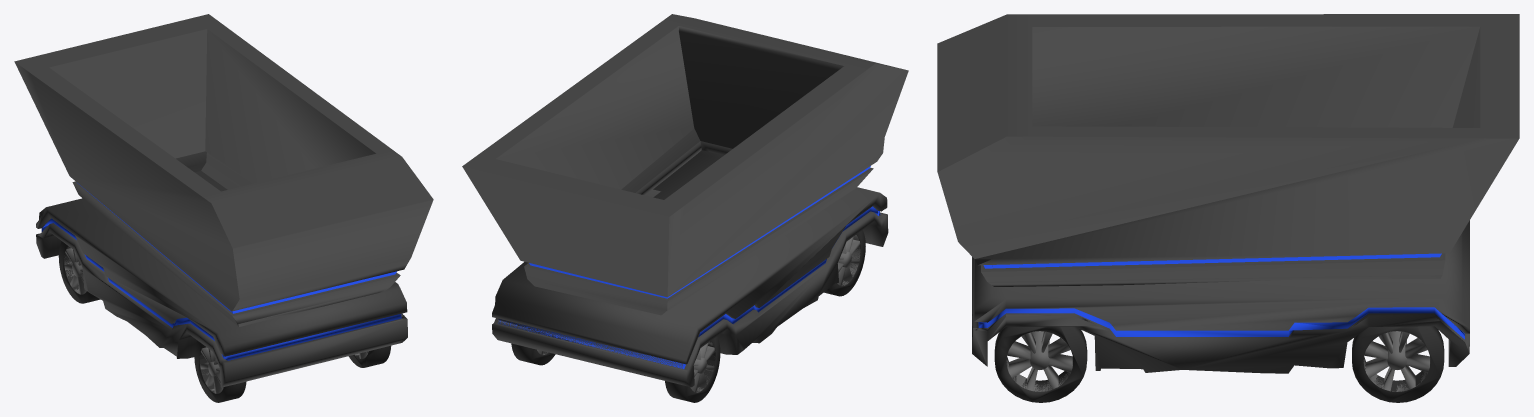
Rendered from torokko_perfect3.fbx.
The picture shows the model from 3 angles, left to right: view 1: azimuth 30°, elevation 25°; view 2: azimuth 150°, elevation 25°; view 3: azimuth 270°, elevation 25°; orthographic projection. The views are drawn at different scales.
Visible parts, largest first — view 1: torokko, base, tire right_front, tire right_rear, tire left_front, wheel right_rear, wheel right_front; view 2: torokko, base, tire right_rear, wheel right_front, tire right_front, tire left_rear, wheel right_rear; view 3: torokko, base, tire left_front, tire left_rear, wheel left_front, wheel left_rear, pole_tire_front, pole_tire_rear.
Boxes of the visible parts, <box> form: torokko: <box>14,14,433,326</box>; base: <box>36,170,407,387</box>; tire right_front: <box>194,340,246,402</box>; tire right_rear: <box>58,241,100,303</box>; tire left_front: <box>348,345,391,367</box>; wheel right_rear: <box>64,246,86,294</box>; wheel right_front: <box>200,347,223,393</box>; torokko: <box>462,14,908,315</box>; base: <box>492,150,888,387</box>; tire right_rear: <box>665,336,720,402</box>; wheel right_front: <box>837,235,860,285</box>; tire right_front: <box>824,230,865,296</box>; tire left_rear: <box>511,343,555,365</box>; wheel right_rear: <box>690,341,715,392</box>; torokko: <box>937,14,1519,286</box>; base: <box>972,220,1469,373</box>; tire left_front: <box>994,326,1087,402</box>; tire left_rear: <box>1352,326,1444,402</box>; wheel left_front: <box>1006,331,1072,391</box>; wheel left_rear: <box>1363,331,1430,391</box>; pole_tire_front: <box>1030,331,1049,369</box>; pole_tire_rear: <box>1387,331,1406,369</box>.
Size of the model in its own units: 390 by 390 by 745.
